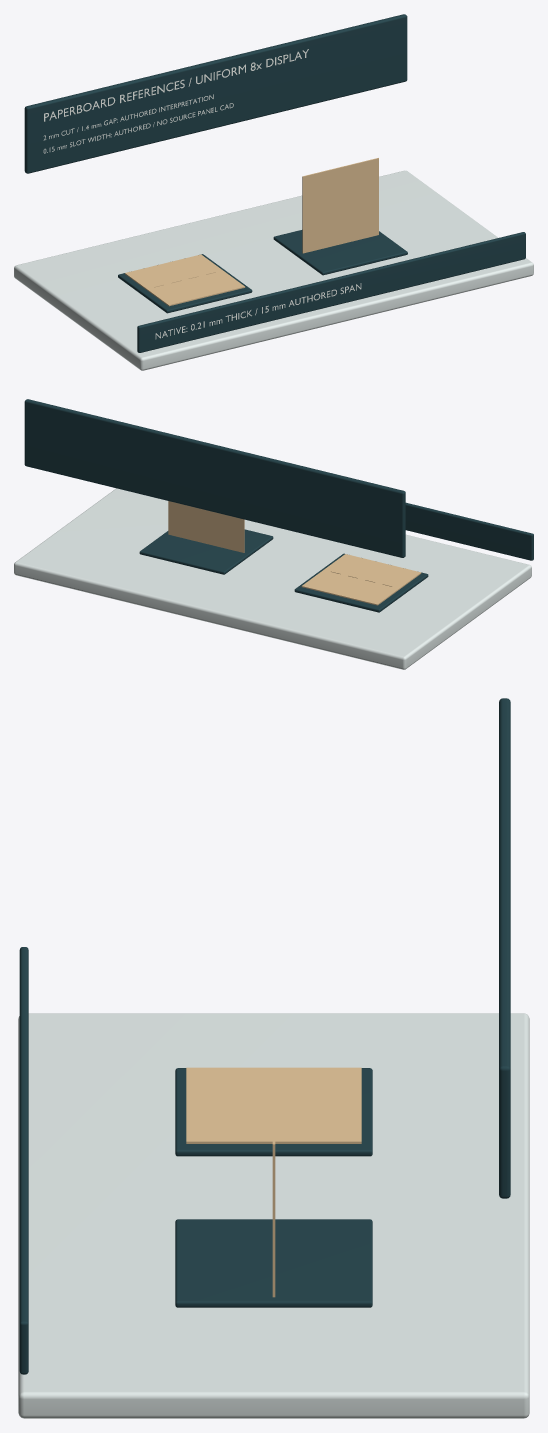
Rendered from paperboard_reference_display.glb.
The picture shows the model from 3 angles, top to bottom: view 1: azimuth 30°, elevation 25°; view 2: azimuth 150°, elevation 25°; view 3: azimuth 270°, elevation 25°; orthographic projection. The views are drawn at different scales.
Parts seen in each view (by area): view 1: display.plinth, display.title.plate, display.native.plate, display.edge_coupon, display.perforated_coupon, display.support.001, display.support, display.title.text, display.native.text, display.slot_info, display.cut_info; view 2: display.plinth, display.title.plate, display.native.plate, display.perforated_coupon, display.support.001, display.edge_coupon, display.support; view 3: display.plinth, display.support.001, display.perforated_coupon, display.title.plate, display.support, display.native.plate, display.edge_coupon.
Boxes of the visible parts, x1,y1,x2,y2 form: display.plinth: [14, 170, 533, 370]; display.title.plate: [24, 14, 407, 173]; display.native.plate: [137, 232, 525, 352]; display.edge_coupon: [302, 158, 378, 253]; display.perforated_coupon: [125, 254, 245, 306]; display.support.001: [273, 230, 407, 275]; display.support: [118, 254, 252, 313]; display.title.text: [44, 49, 308, 121]; display.native.text: [155, 283, 361, 339]; display.slot_info: [43, 103, 233, 153]; display.cut_info: [43, 94, 213, 140]; display.plinth: [14, 488, 531, 669]; display.title.plate: [24, 399, 405, 557]; display.native.plate: [405, 502, 533, 560]; display.perforated_coupon: [301, 554, 421, 605]; display.support.001: [139, 529, 273, 574]; display.edge_coupon: [168, 501, 244, 552]; display.support: [294, 553, 428, 612]; display.plinth: [18, 1013, 529, 1418]; display.support.001: [175, 1219, 372, 1307]; display.perforated_coupon: [186, 1067, 361, 1143]; display.title.plate: [499, 698, 510, 1198]; display.support: [175, 1068, 372, 1156]; display.native.plate: [19, 947, 28, 1374]; display.edge_coupon: [272, 1070, 275, 1297].
Size of the model in its own units: 0.623 by 0.262 by 0.35.
